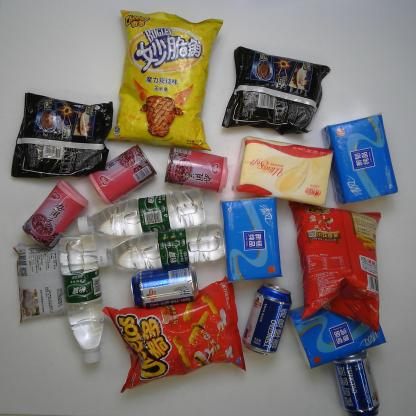Alcohol: (238, 272, 305, 359), (327, 336, 388, 414), (126, 260, 197, 316)
Canned Food: (14, 182, 98, 251), (84, 131, 160, 207), (160, 145, 237, 198)
Drink: (77, 178, 220, 237), (53, 224, 110, 370), (94, 217, 230, 273)
Instant Noodles: (0, 72, 113, 179), (219, 36, 334, 139)
Puffed Food: (102, 4, 228, 157), (100, 270, 253, 396), (276, 188, 392, 323)
Seasoner: (6, 234, 70, 337)
Tissue: (284, 283, 404, 377), (224, 131, 342, 210), (322, 106, 406, 209), (214, 187, 284, 288)
